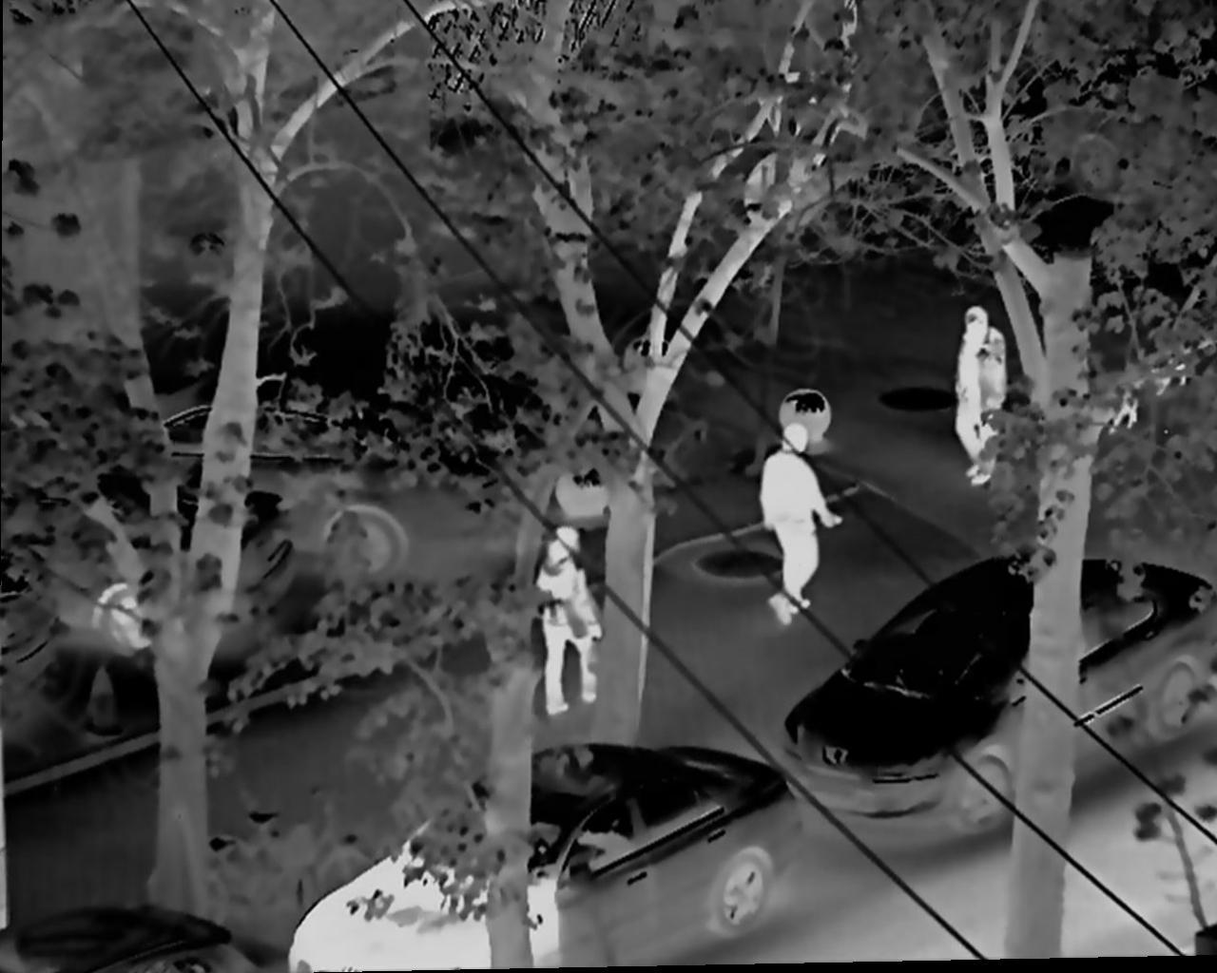person: (750, 428, 848, 629), (538, 524, 603, 722), (956, 302, 1014, 500)
